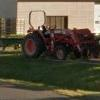Tractor: (18, 7, 100, 65)
